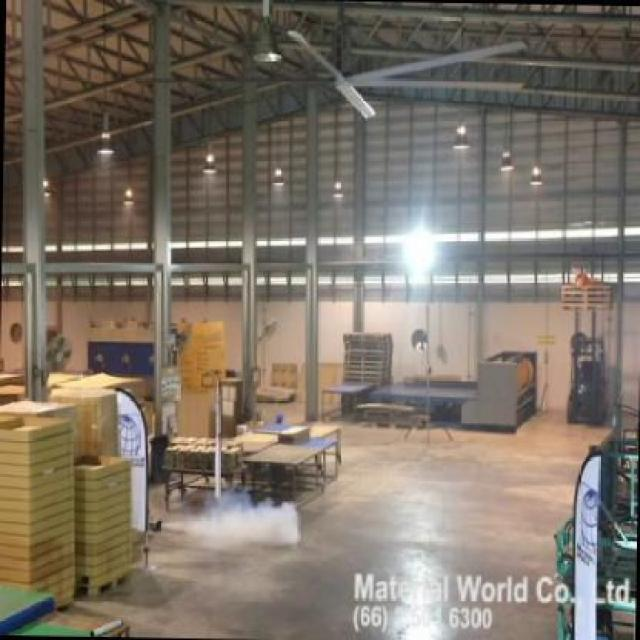fire: (170, 487, 307, 553)
